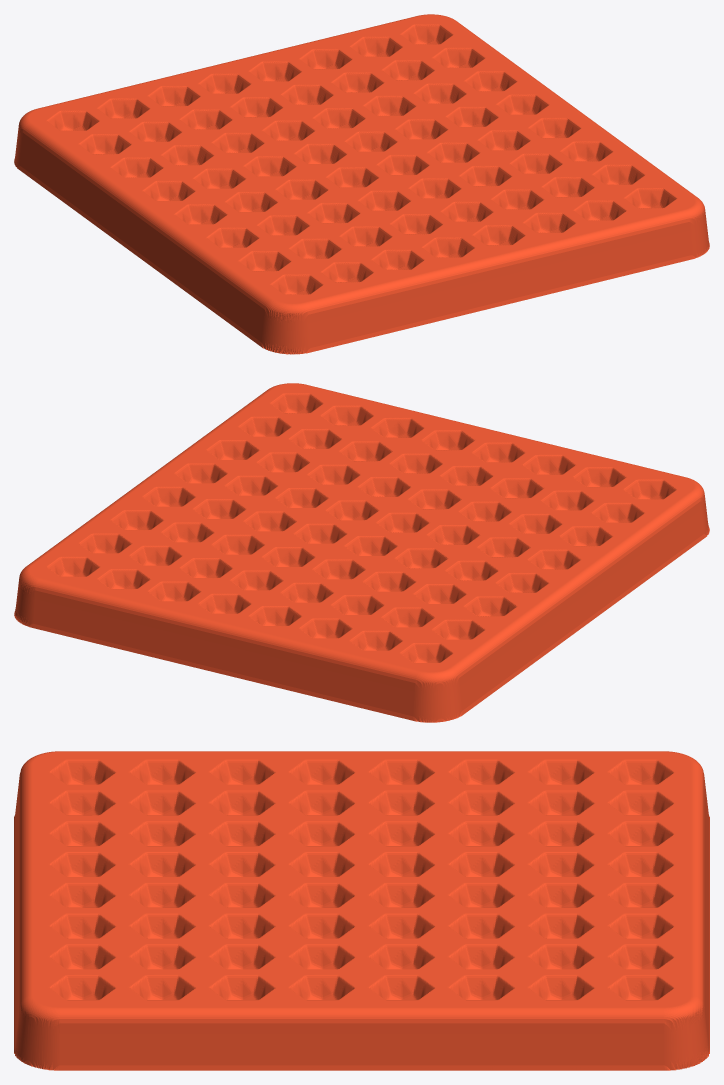
Rendered from mold.glb.
3 views of the same model, one above another, from view 1: azimuth 30°, elevation 25°; view 2: azimuth 150°, elevation 25°; view 3: azimuth 270°, elevation 25° (orthographic). The views are drawn at different scales.
Visible parts, largest first — view 1: geometry_0; view 2: geometry_0; view 3: geometry_0.
Part boxes in pixels (left/top/right/bottom): geometry_0: left=14, top=14, right=709, bottom=354; geometry_0: left=14, top=383, right=709, bottom=722; geometry_0: left=14, top=751, right=709, bottom=1070.
Bounding box in the file's own units: 0.1247 × 0.0119 × 0.1355.
